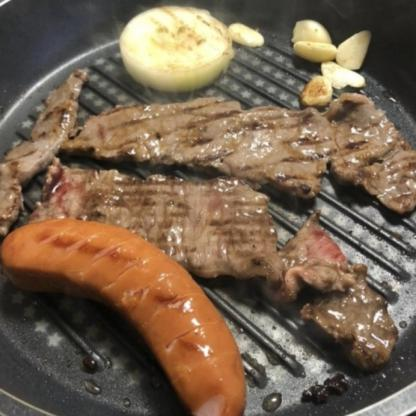Carne: (28, 158, 281, 278), (60, 97, 334, 193), (278, 211, 391, 361), (0, 72, 93, 231), (320, 89, 415, 211)
